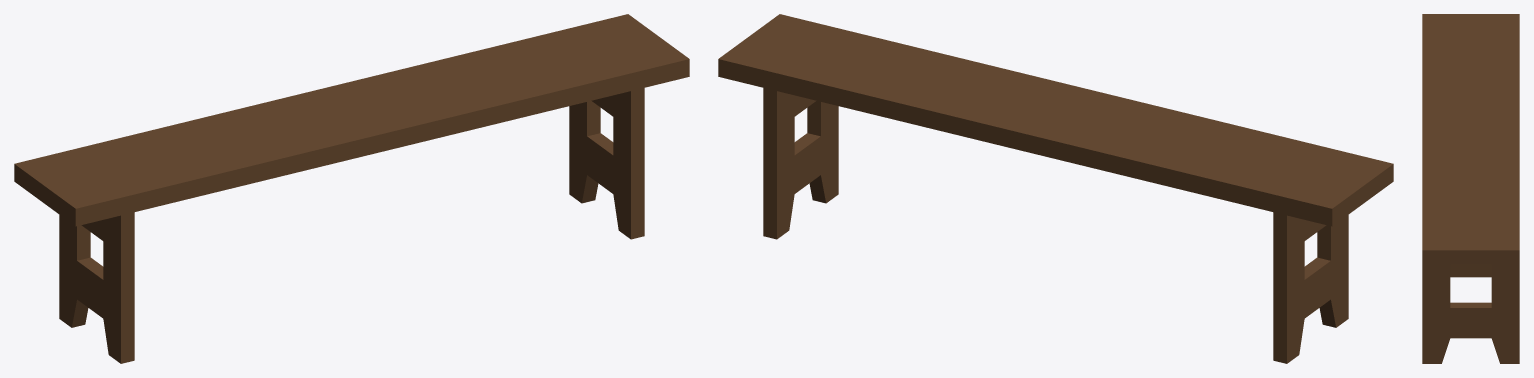
The model's file is bench.fbx.
The picture shows the model from 3 angles, left to right: view 1: azimuth 30°, elevation 25°; view 2: azimuth 150°, elevation 25°; view 3: azimuth 270°, elevation 25°; orthographic projection. The views are drawn at different scales.
Parts seen in each view (by area): view 1: Bench; view 2: Bench; view 3: Bench.
Part boxes in pixels (x1,y1,x2,y2): Bench: (14,14,689,363); Bench: (718,14,1393,363); Bench: (1422,14,1519,363).
Bounding box in the file's own units: 158 × 27.45 × 40.9.
